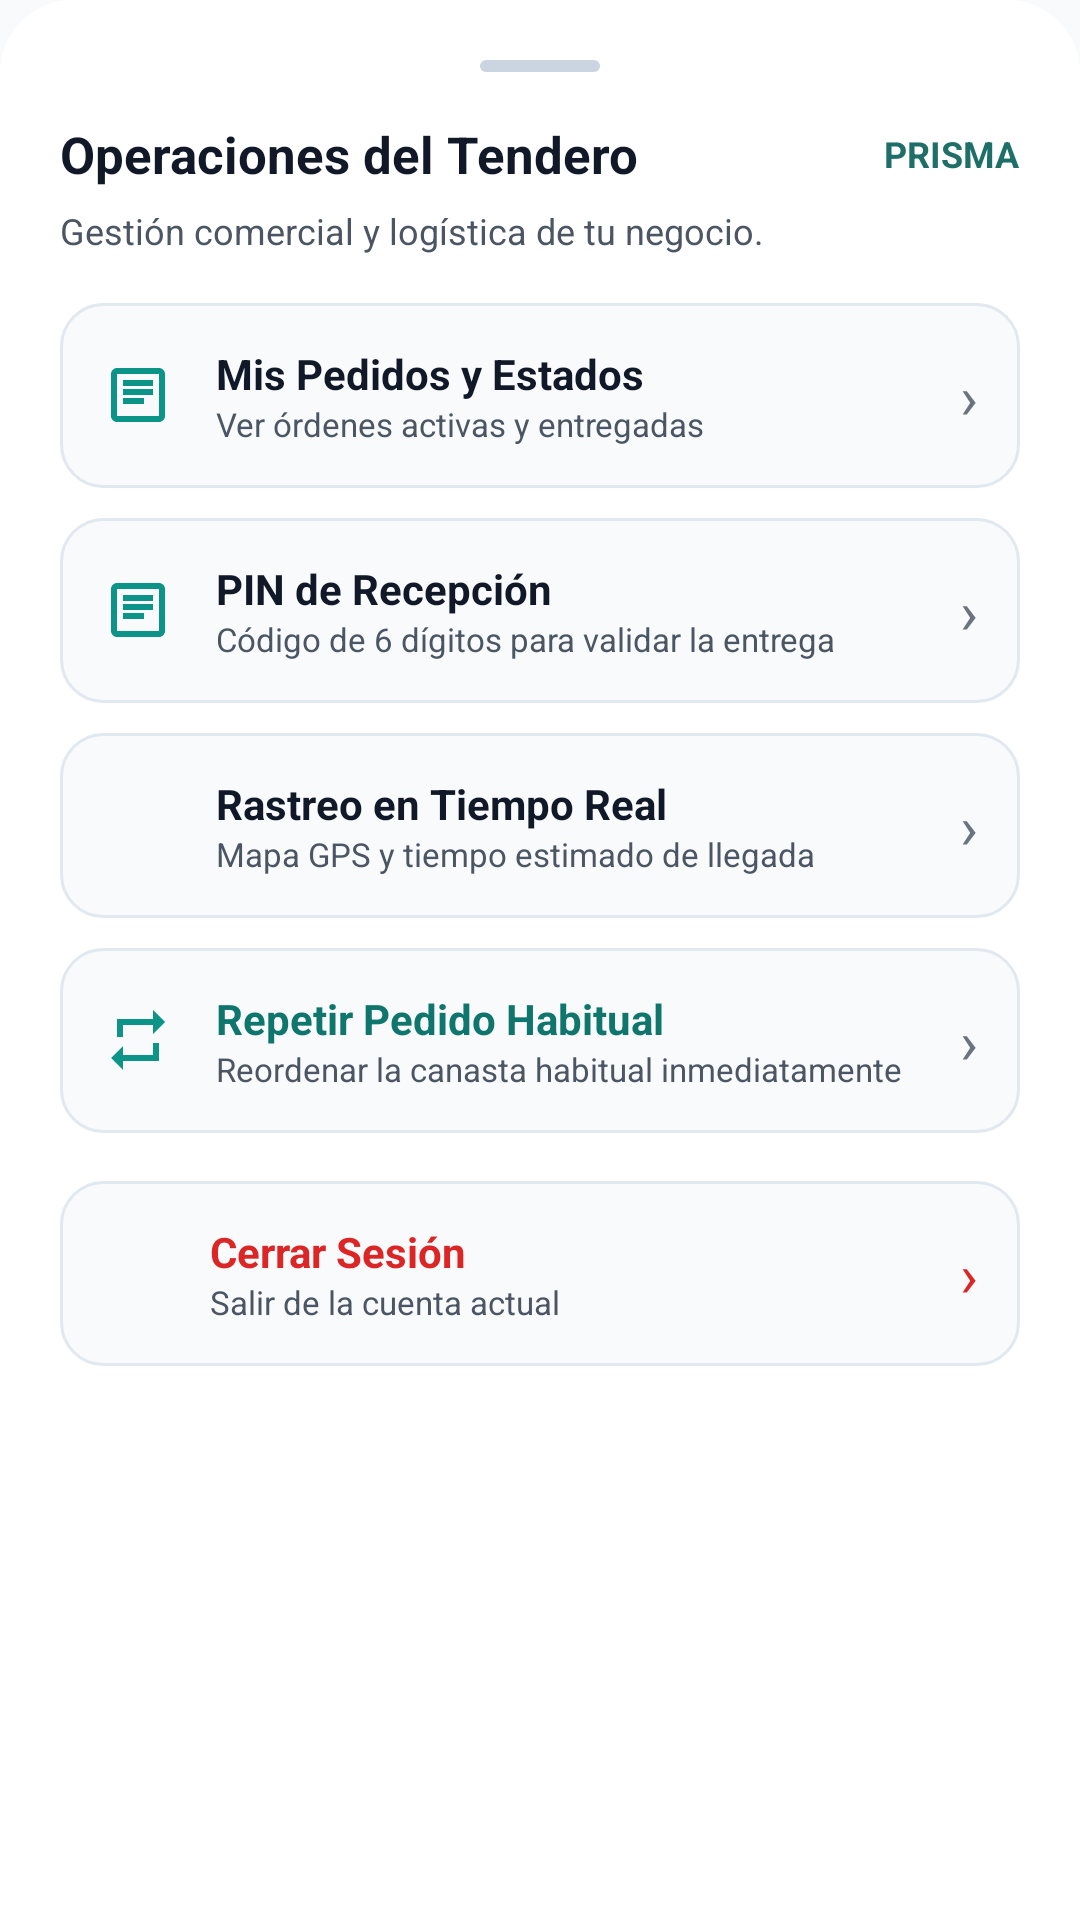

Icons on this 1080x1920 Android screen, each with its box as (x1,y1,x2,y2):
orders: (111,368,165,422), (111,583,165,637)
repeat: (111,1010,165,1070)
